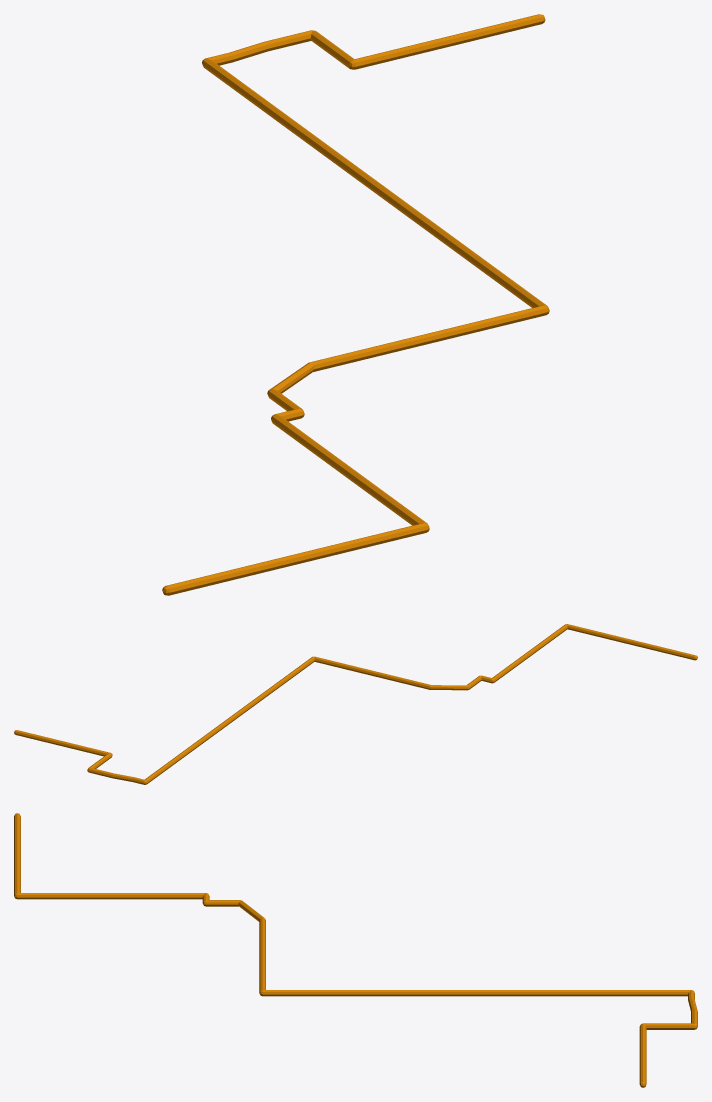
3 renders of one model, top to bottom at view 1: azimuth 30°, elevation 25°; view 2: azimuth 150°, elevation 25°; view 3: azimuth 270°, elevation 25°, orthographic. The views are drawn at different scales.
Size of the model in its own units: 1870 by 20 by 1994.
